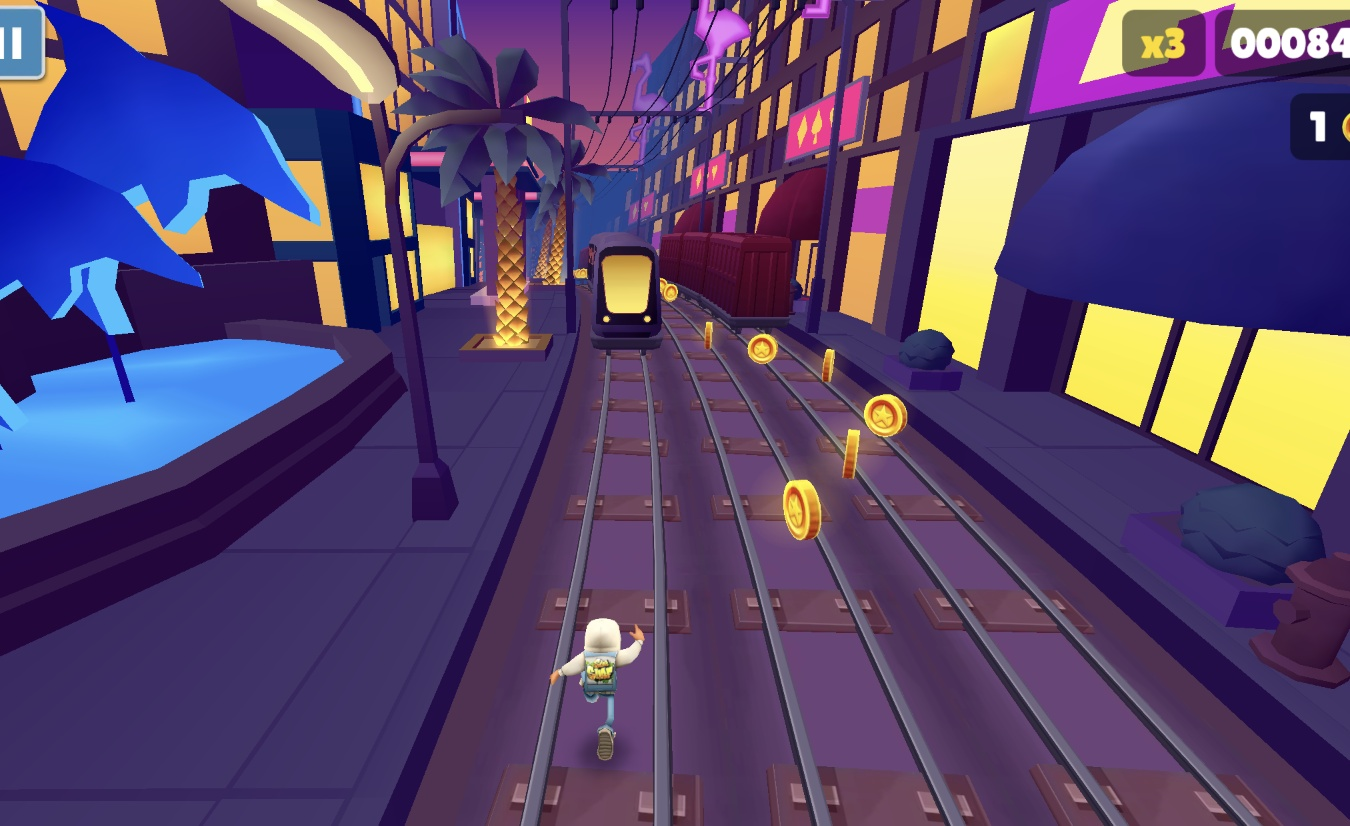train: (661, 231, 796, 331), (582, 231, 663, 353)
